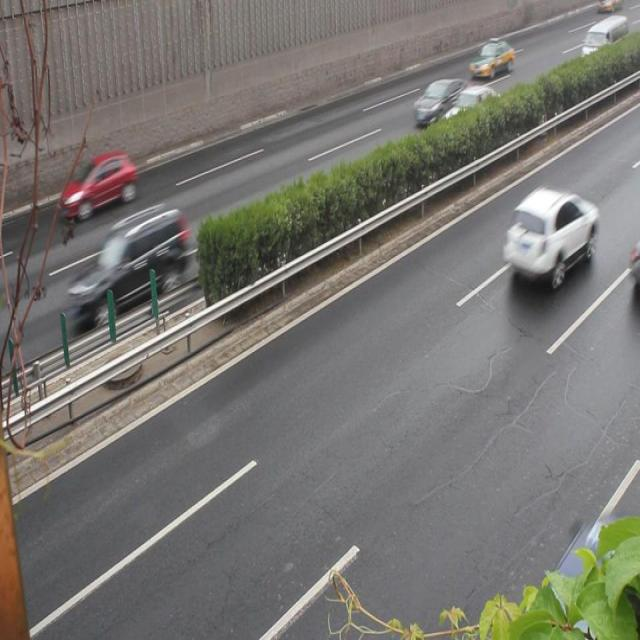car: (67, 206, 187, 324), (503, 188, 596, 287), (60, 150, 136, 220), (440, 86, 503, 140), (414, 78, 469, 127), (467, 36, 513, 82)
